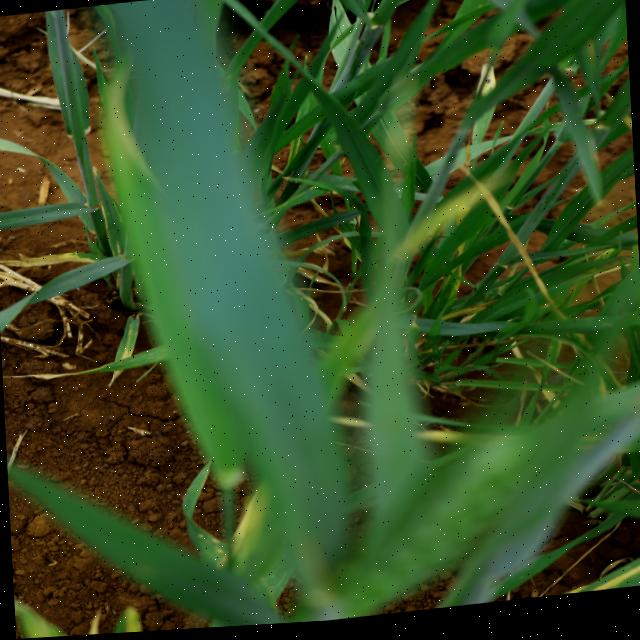healthy_wheat: (130, 45, 340, 532), (279, 442, 586, 627), (300, 0, 486, 193), (0, 253, 139, 330), (486, 79, 563, 177), (522, 195, 638, 260), (215, 0, 318, 73), (40, 7, 100, 129), (505, 0, 628, 59), (335, 189, 383, 275), (462, 208, 509, 259), (421, 237, 460, 292)
